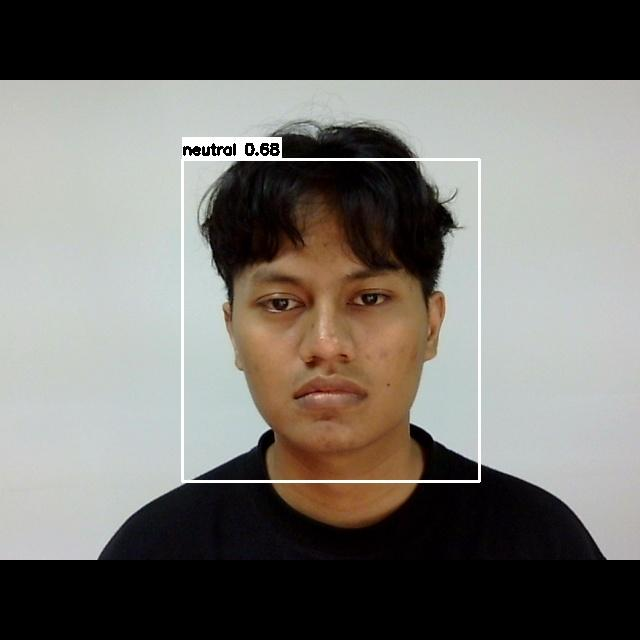Natural: (234, 241, 432, 424)
